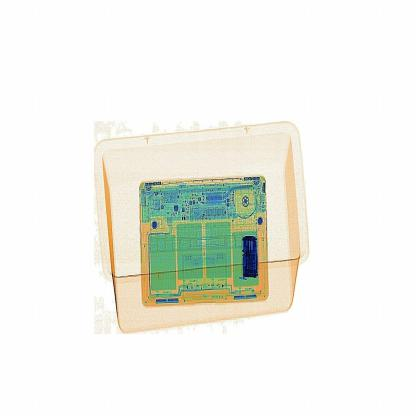scissors: (231, 226, 263, 285)
